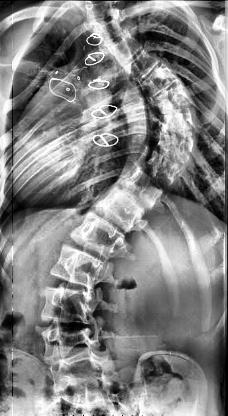Vertebrae: (70, 215, 130, 261), (36, 324, 115, 358), (50, 354, 116, 394), (40, 282, 106, 322), (48, 249, 112, 286), (92, 188, 144, 232), (148, 128, 202, 168), (118, 166, 162, 210), (146, 83, 196, 120), (135, 150, 182, 186), (140, 61, 180, 99), (156, 105, 204, 135), (110, 31, 145, 69), (96, 15, 134, 49), (129, 46, 161, 84), (84, 2, 123, 24)
